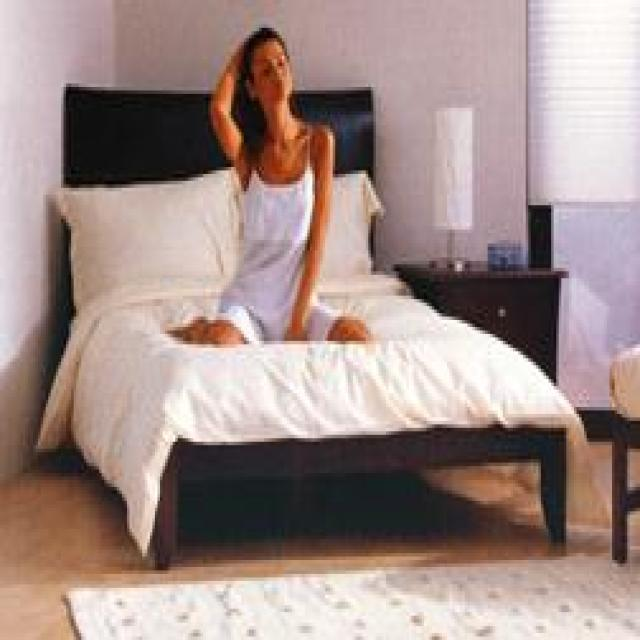bed: (36, 80, 589, 567)
